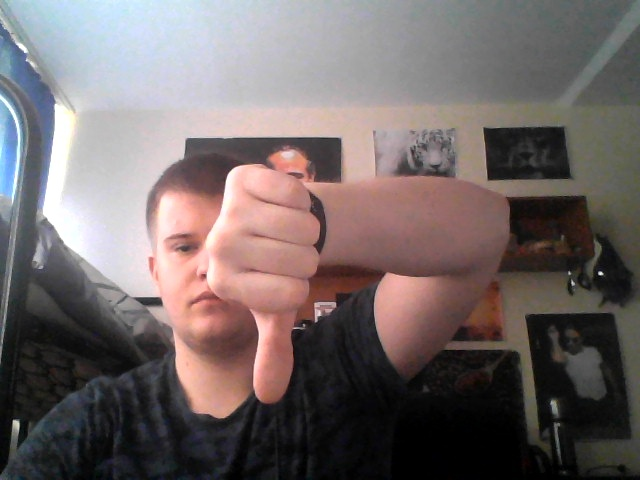thumbsdown: (203, 160, 341, 407)
